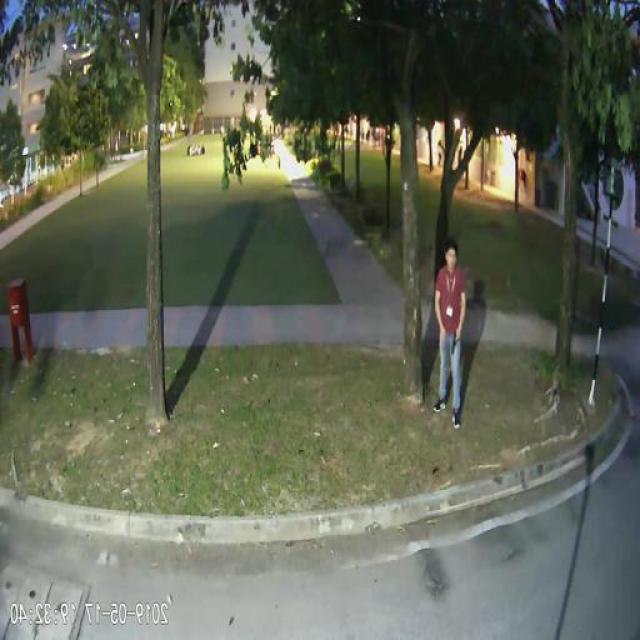Gun: (453, 328, 462, 352)
